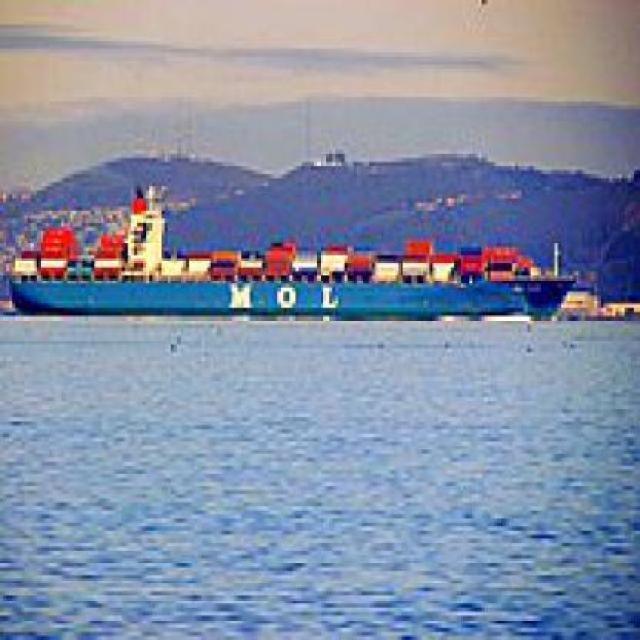container: (7, 192, 587, 329)
